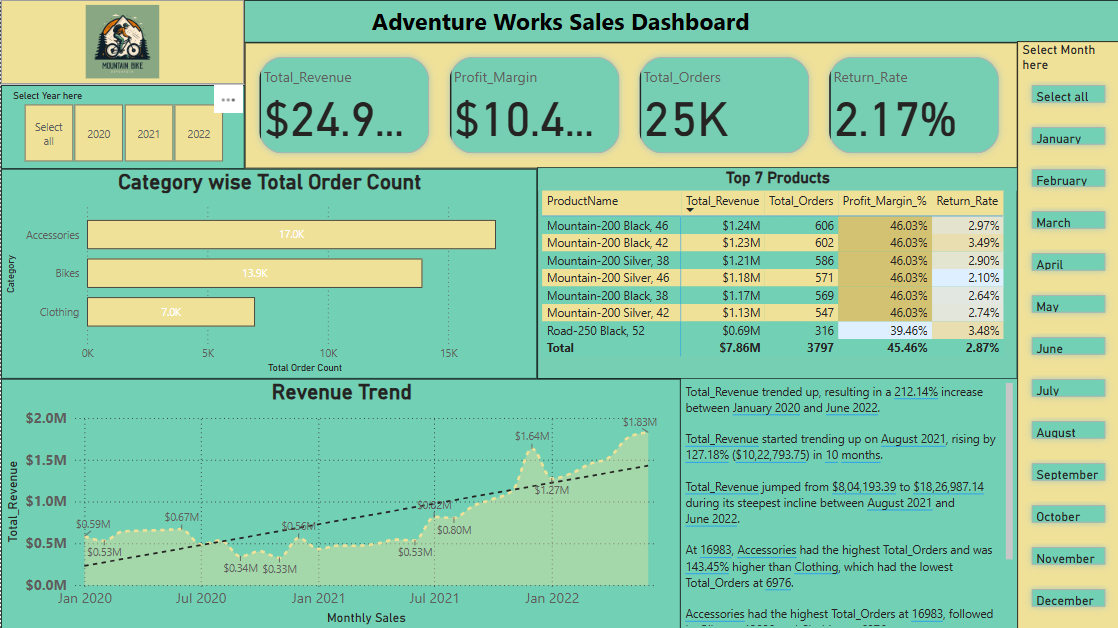

What the dashboard file says about the page in this screenshot:
{"tool":"powerbi","page":{"name":"Dashboard","canvas":[1280,720],"ordinal":5},"visuals":[{"type":"cardVisual","fields":{"Data":["Measure_Table.Total_Revenue","Measure_Table.Profit_Margin","Measure_Table.Total_Orders","Measure_Table.Return_Rate"]},"box":[278.6,48.6,882.9,144.3],"z":0},{"type":"textbox","box":[0,0,1279.7,49.1],"z":1000},{"type":"slicer","fields":{"Values":["Calendar Lookup.Date.Variation.Date Hierarchy.Year"]},"box":[0,97.1,278.6,95.7],"z":2000},{"type":"clusteredBarChart","title":"Category wise Total Order Count","fields":{"Category":["Product Categories Lookup.CategoryName"],"Y":["Measure_Table.Total_Orders"]},"box":[0,192.9,612.9,240],"z":3000},{"type":"advancedSlicerVisual","title":"Select Month here","fields":{"Values":["Calendar Lookup.Date.Variation.Date Hierarchy.Month"]},"box":[1161.4,47.1,118.6,672.9],"z":4000},{"type":"lineChart","title":"Revenue Trend","fields":{"Y":["Measure_Table.Total_Revenue"],"Category":["Calendar Lookup.Date.Variation.Date Hierarchy.Year","Calendar Lookup.Date.Variation.Date Hierarchy.Month"]},"box":[0,432.9,777.1,287.1],"z":5000},{"type":"pivotTable","title":"Top 7 Products","fields":{"Rows":["Product Lookup.ProductName"],"Values":["Measure_Table.Total_Revenue","Measure_Table.Total_Orders","Measure_Table.Profit_Margin_%","Measure_Table.Return_Rate"]},"box":[612.9,191.4,548.6,241.4],"z":6000},{"type":"image","box":[0,0,278.6,95.7],"z":7000},{"type":"textbox","box":[777,433,384,287],"z":8000}]}

Visuals, with their boxes in screenshot pixels (x1, y1, x2, y2), scaled from the page's 1280x720 canvas onto the 1118x628 screenshot:
cardVisual - Measure_Table.Total_Revenue x Measure_Table.Profit_Margin: left=243, top=42, right=1014, bottom=168
textbox: left=0, top=0, right=1117, bottom=43
slicer - Calendar Lookup.Date.Variation.Date Hierarchy.Year: left=0, top=85, right=243, bottom=168
"Category wise Total Order Count" clusteredBarChart: left=0, top=168, right=535, bottom=378
"Select Month here" advancedSlicerVisual: left=1014, top=41, right=1117, bottom=627
"Revenue Trend" lineChart: left=0, top=378, right=679, bottom=627
"Top 7 Products" pivotTable: left=535, top=167, right=1014, bottom=377
image: left=0, top=0, right=243, bottom=83
textbox: left=679, top=378, right=1014, bottom=627
